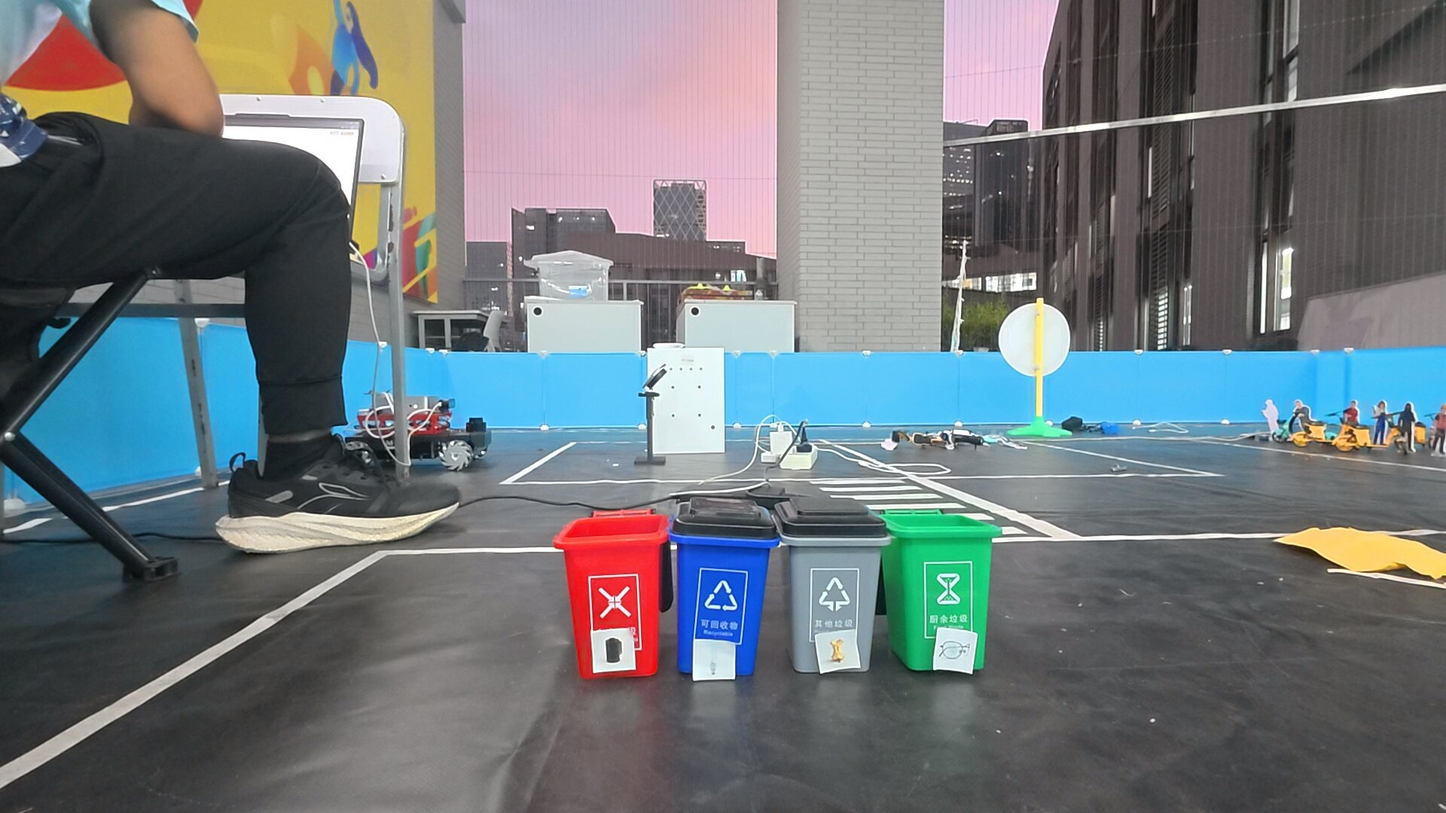food_trash: (819, 633, 855, 667)
hazardous_trash: (694, 641, 731, 678), (596, 631, 632, 669)
other_trash: (936, 632, 975, 670)
